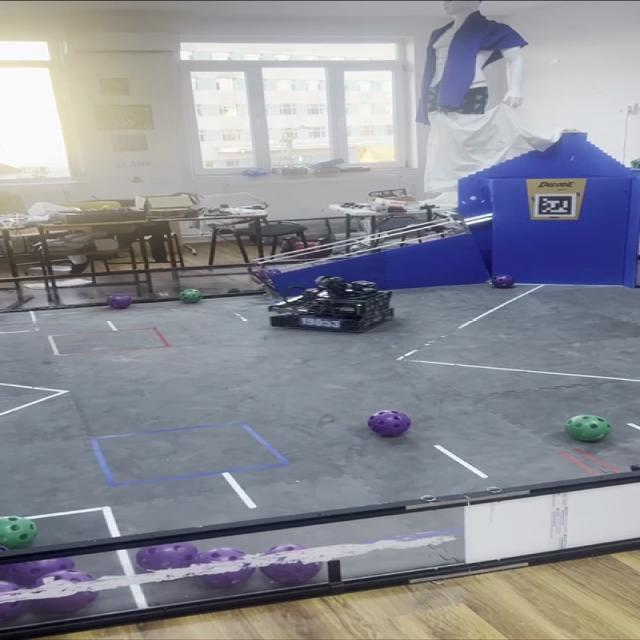artifact_green: (0, 516, 37, 549), (566, 415, 611, 442), (179, 289, 203, 303), (227, 288, 241, 293)
artifact_purple: (7, 558, 74, 586), (136, 543, 198, 571), (260, 562, 321, 586), (35, 592, 98, 614), (368, 411, 411, 437), (202, 566, 254, 587), (0, 601, 27, 621), (256, 268, 281, 284), (107, 294, 133, 309), (491, 275, 514, 288), (0, 565, 9, 580), (0, 546, 9, 552)
